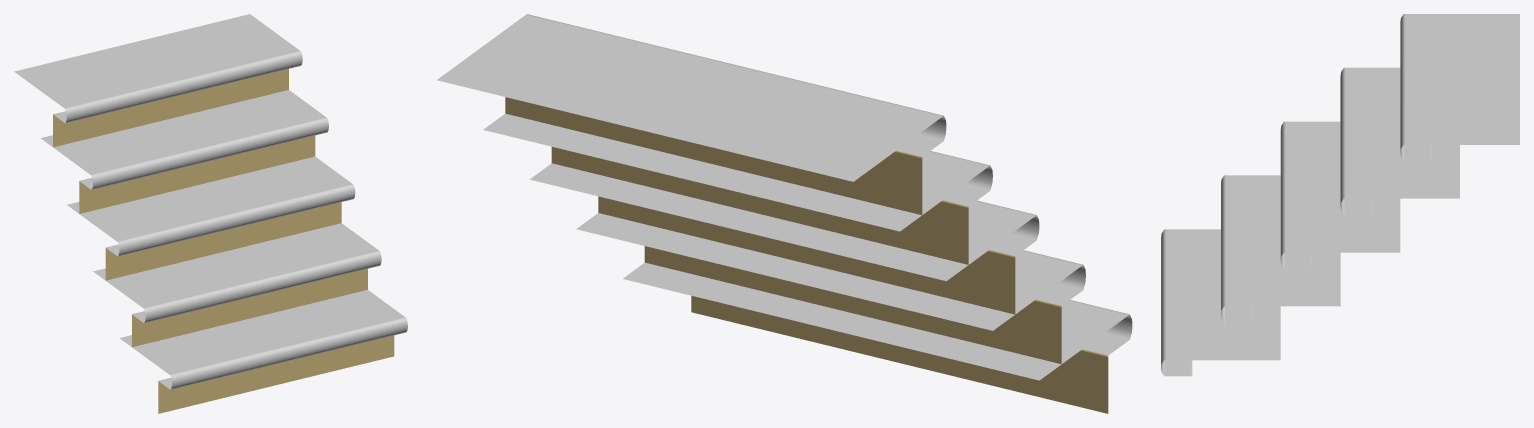
File: InteriorStairsHalf.fbx
3 views of the same model, side by side, from view 1: azimuth 30°, elevation 25°; view 2: azimuth 150°, elevation 25°; view 3: azimuth 270°, elevation 25° (orthographic). The views are drawn at different scales.
Parts seen in each view (by area): view 1: Stairs_LOD0; view 2: Stairs_LOD0; view 3: Stairs_LOD0.
Boxes of the visible parts, box(x1,y1,x2,y2) form: Stairs_LOD0: box(14, 14, 407, 413); Stairs_LOD0: box(437, 14, 1132, 413); Stairs_LOD0: box(1161, 14, 1519, 376).
Size of what is drawn, in the model's own units: 248 by 238 by 287.
